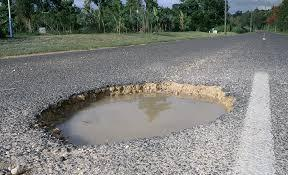pothole: (27, 71, 247, 154)
